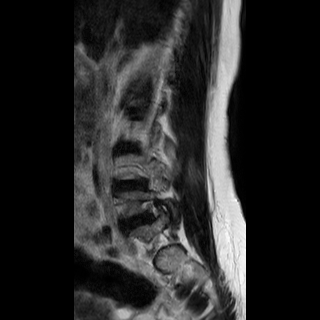RFS1: (136, 196, 170, 227)
